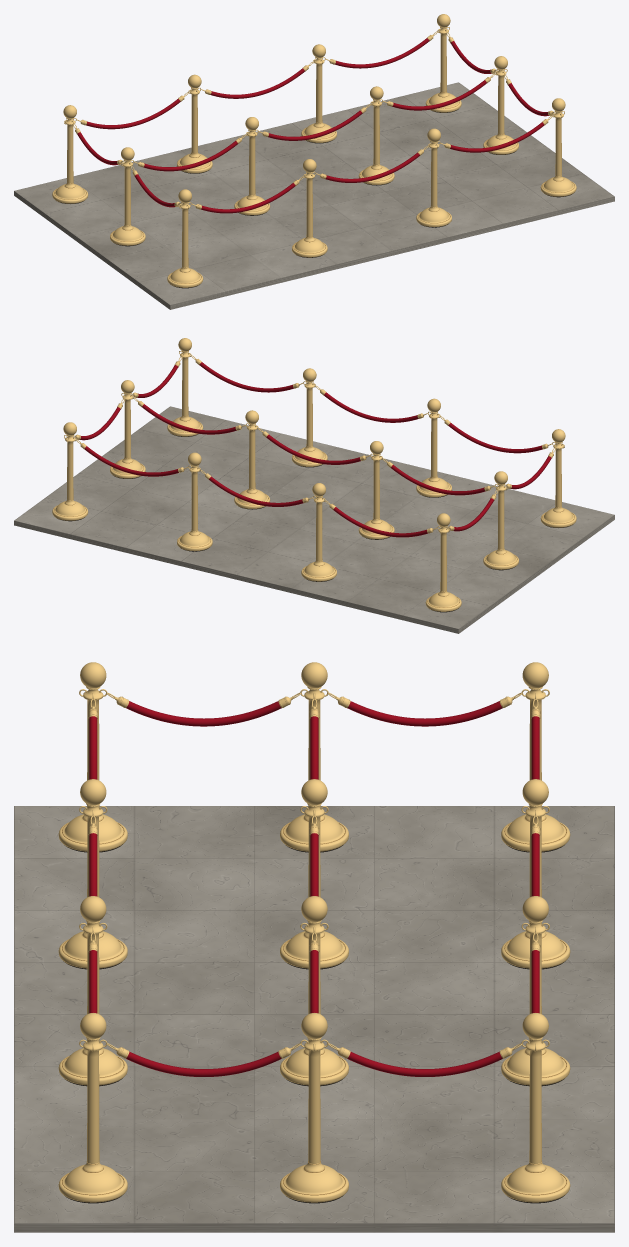
Rendered from casino_rope_barrier_with_floor.glb.
The picture shows the model from 3 angles, top to bottom: view 1: azimuth 30°, elevation 25°; view 2: azimuth 150°, elevation 25°; view 3: azimuth 270°, elevation 25°; orthographic projection. The views are drawn at different scales.
Visible parts, largest first — view 1: Optional_Marble_Floor, Stanchion_Row03_Col03, Stanchion_Row03_Col01, Stanchion_Row02_Col01, Stanchion_Row03_Col04, Stanchion_Row03_Col02, Stanchion_Row01_Col01, Stanchion_Row01_Col03, Stanchion_Row02_Col03, Stanchion_Row01_Col02, Stanchion_Row01_Col04, Stanchion_Row02_Col02 (+10 smaller); view 2: Optional_Marble_Floor, Stanchion_Row01_Col03, Stanchion_Row01_Col01, Stanchion_Row02_Col01, Stanchion_Row01_Col04, Stanchion_Row01_Col02, Stanchion_Row03_Col01, Stanchion_Row02_Col03, Stanchion_Row03_Col03, Stanchion_Row03_Col02, Stanchion_Row02_Col02, Stanchion_Row03_Col04 (+10 smaller); view 3: Optional_Marble_Floor, Stanchion_Row02_Col04, Stanchion_Row01_Col04, Stanchion_Row03_Col04, Stanchion_Row02_Col01, Stanchion_Row02_Col02, Stanchion_Row02_Col03, Stanchion_Row03_Col02, Stanchion_Row01_Col02, Stanchion_Row03_Col01, Stanchion_Row01_Col01, Stanchion_Row03_Col03 (+5 smaller).
Part boxes in pixels (box(x1,y1,x2,y2)): Optional_Marble_Floor: box(14, 82, 614, 309); Stanchion_Row03_Col03: box(416, 128, 451, 227); Stanchion_Row03_Col01: box(167, 189, 203, 288); Stanchion_Row02_Col01: box(110, 147, 145, 246); Stanchion_Row03_Col04: box(540, 98, 576, 197); Stanchion_Row03_Col02: box(292, 159, 327, 257); Stanchion_Row01_Col01: box(52, 105, 88, 203); Stanchion_Row01_Col03: box(301, 44, 336, 143); Stanchion_Row02_Col03: box(358, 86, 394, 185); Stanchion_Row01_Col02: box(177, 74, 212, 173); Stanchion_Row01_Col04: box(425, 14, 461, 112); Stanchion_Row02_Col02: box(234, 117, 270, 215); Optional_Marble_Floor: box(14, 406, 614, 633); Stanchion_Row01_Col03: box(177, 452, 212, 551); Stanchion_Row01_Col01: box(425, 513, 461, 612); Stanchion_Row02_Col01: box(483, 471, 518, 570); Stanchion_Row01_Col04: box(52, 422, 88, 521); Stanchion_Row01_Col02: box(301, 483, 336, 581); Stanchion_Row03_Col01: box(540, 429, 576, 527); Stanchion_Row02_Col03: box(234, 410, 270, 509); Stanchion_Row03_Col03: box(292, 368, 327, 467); Stanchion_Row03_Col02: box(416, 398, 451, 497); Stanchion_Row02_Col02: box(358, 441, 394, 539); Stanchion_Row03_Col04: box(167, 338, 203, 436); Optional_Marble_Floor: box(14, 806, 614, 1232); Stanchion_Row02_Col04: box(280, 1013, 348, 1203); Stanchion_Row01_Col04: box(501, 1013, 570, 1203); Stanchion_Row03_Col04: box(58, 1013, 127, 1203); Stanchion_Row02_Col01: box(280, 662, 348, 852); Stanchion_Row02_Col02: box(280, 779, 348, 969); Stanchion_Row02_Col03: box(280, 896, 348, 1086); Stanchion_Row03_Col02: box(58, 779, 127, 969); Stanchion_Row01_Col02: box(501, 779, 570, 969); Stanchion_Row03_Col01: box(58, 662, 127, 852); Stanchion_Row01_Col01: box(501, 662, 570, 852); Stanchion_Row03_Col03: box(58, 896, 127, 1086).
Bounding box in the file's own units: 5.36 × 1.11 × 3.26.
5 materials, 2 textured.
